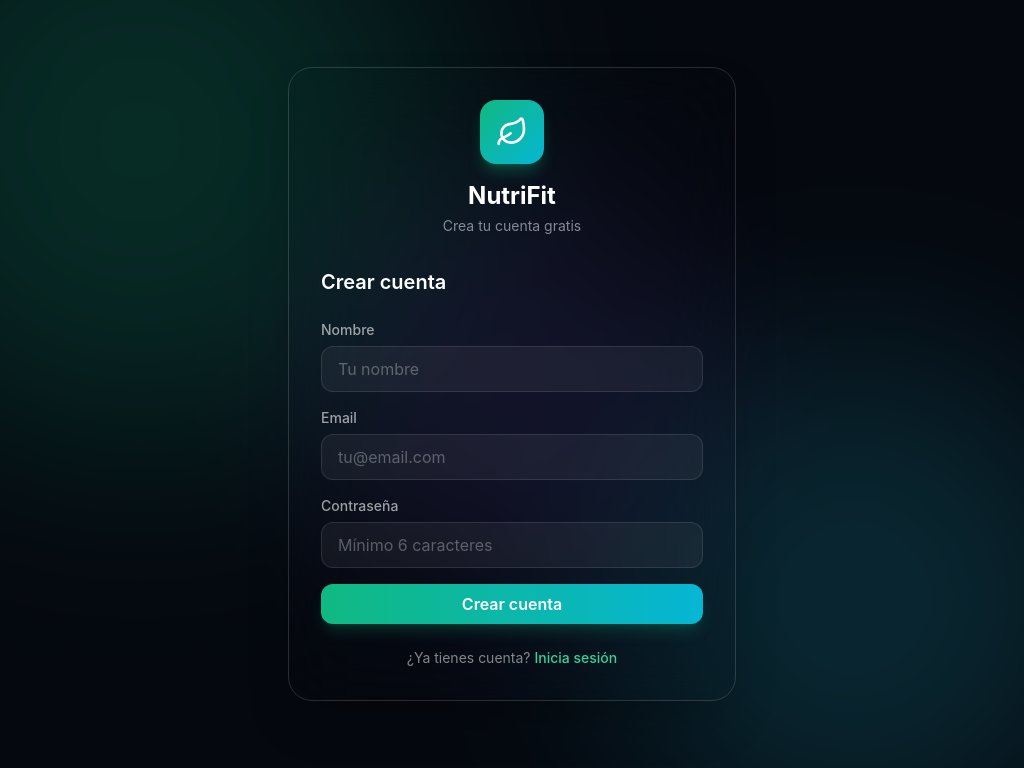
Register page › shows API error message when registration fails
The width and height of the screenshot is (1024, 768).
Type "Ana" into the field labelled "Nombre".
click(512, 369); type("Ana")  # box [321,346,703,392]
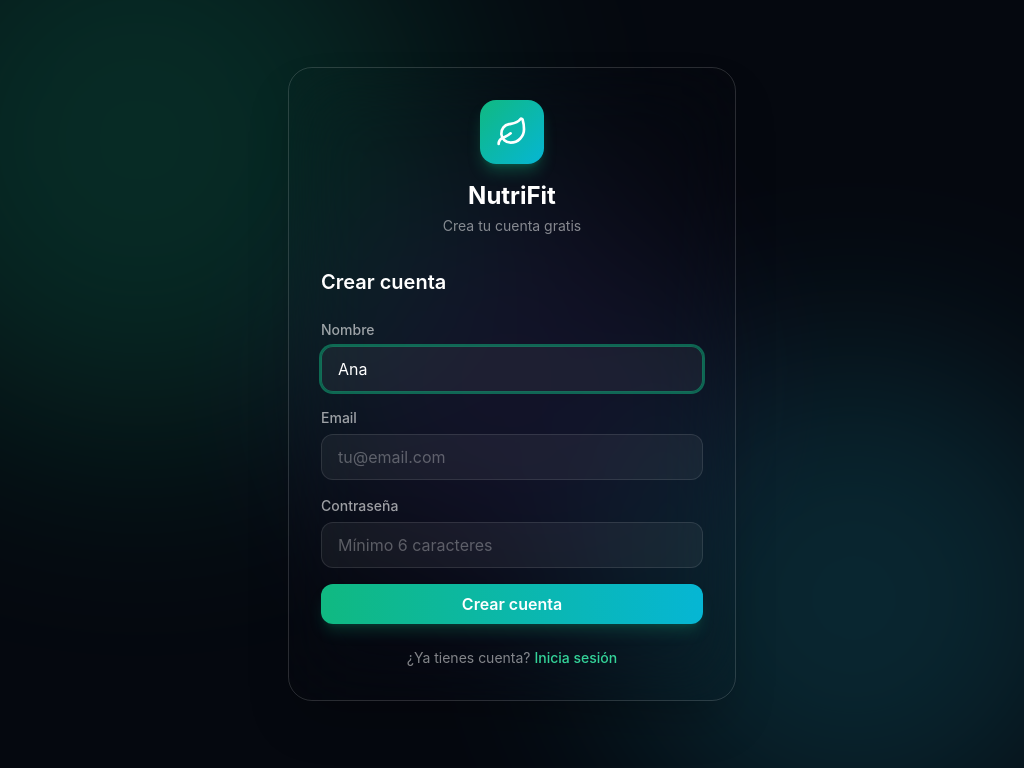
Type "ana@example.com" into the field labelled "Email".
click(512, 457); type("ana@example.com")  # box [321,434,703,480]
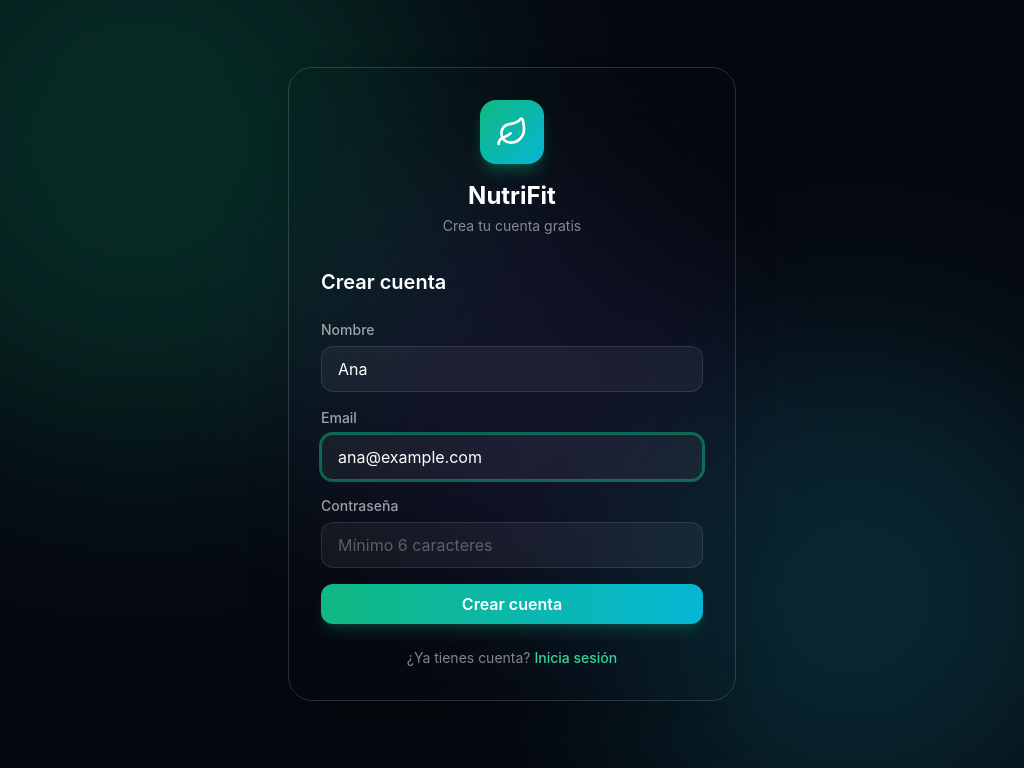
Type "secreta123" into the password field labelled "Contraseña".
click(512, 545); type("secreta123")  # box [321,522,703,568]
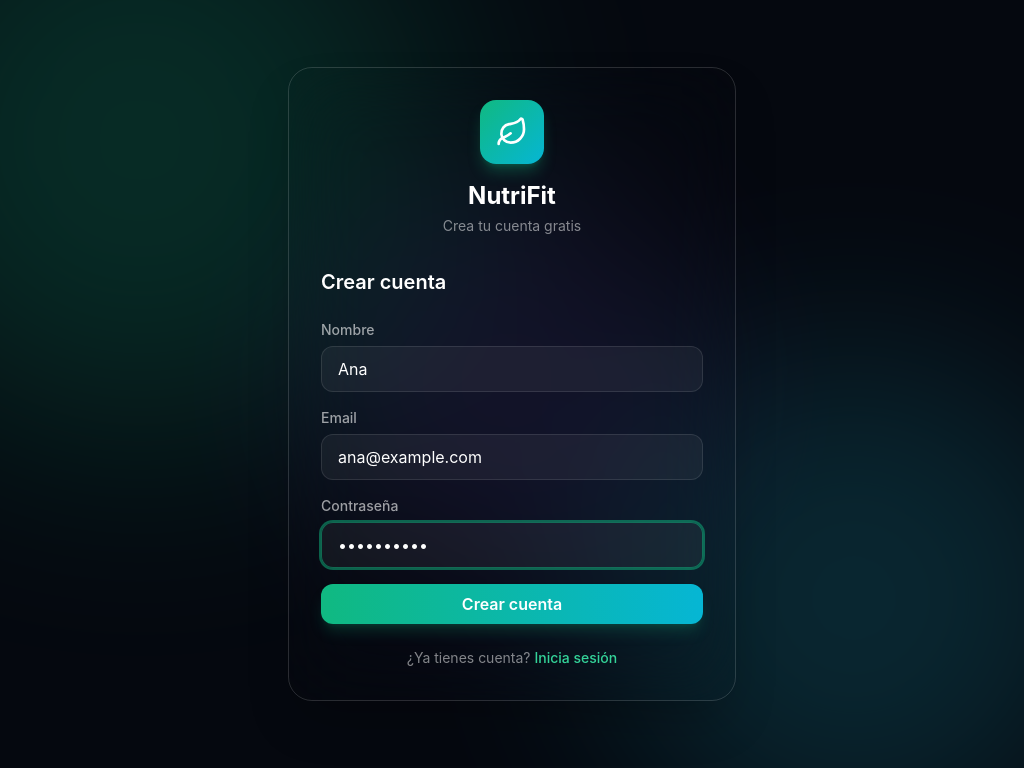
Click the button "Crear cuenta".
click(512, 604)  # box [321,584,703,624]
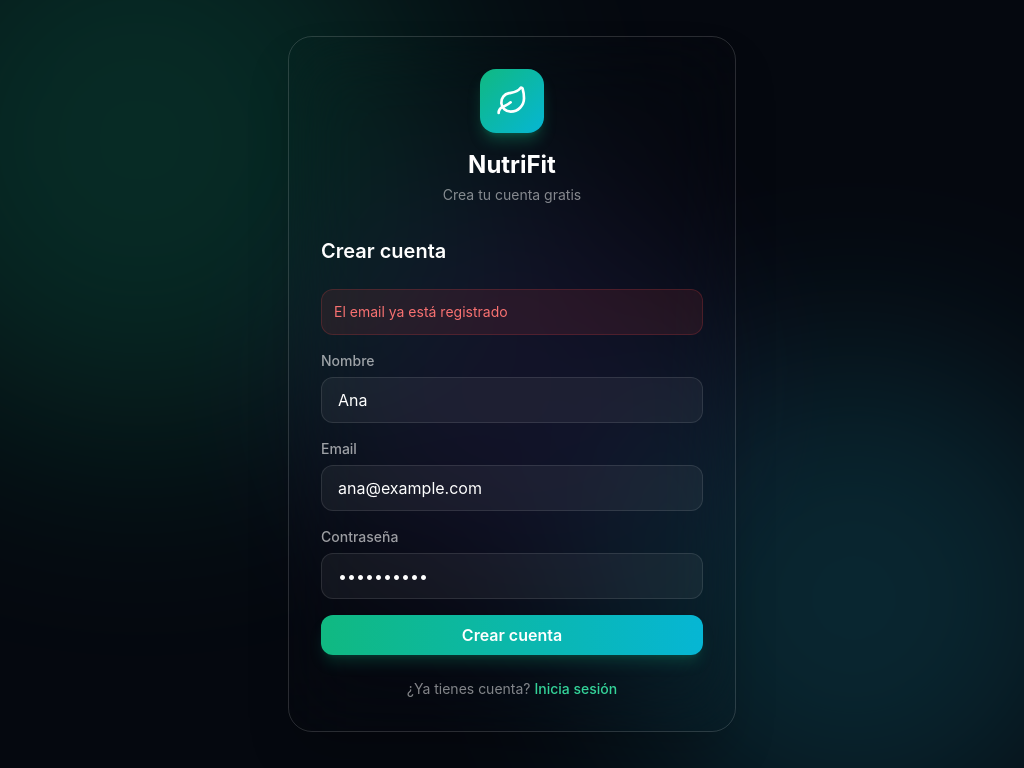
Now the text "El email ya está registrado" is shown, box [321,289,703,335]
